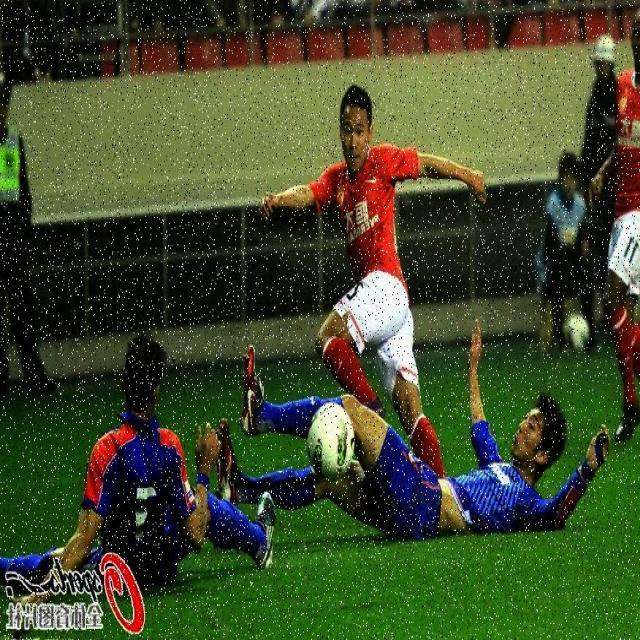fall: (292, 379, 580, 555)
